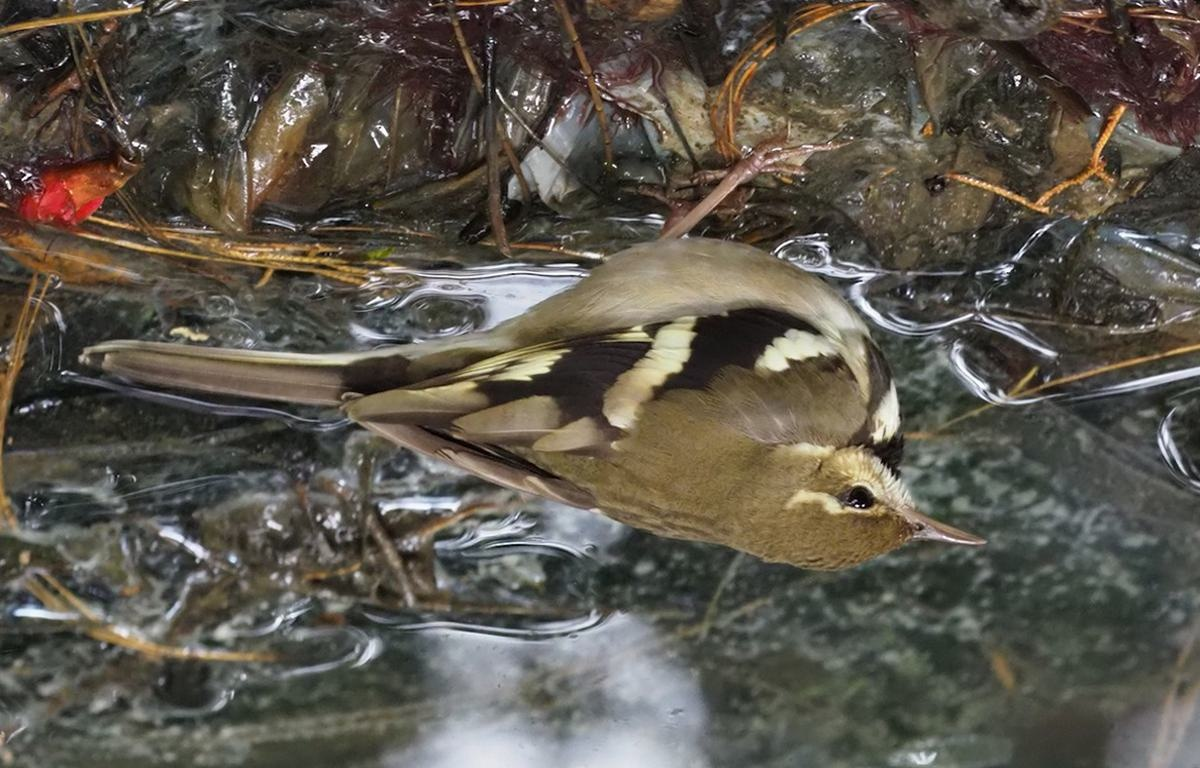wagtail: (97, 168, 993, 584)
